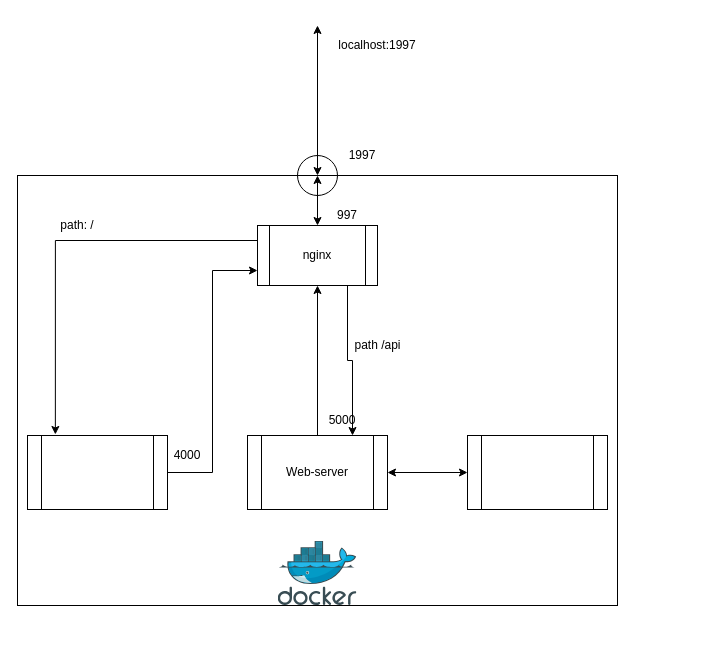
Image size: 725x653. Some labels were removed from this diagram. Here are the shapes that lost their labels. From the top down, the centre of each, then its label:
At (97,472): "Web-app".
At (537,472): "Database".
